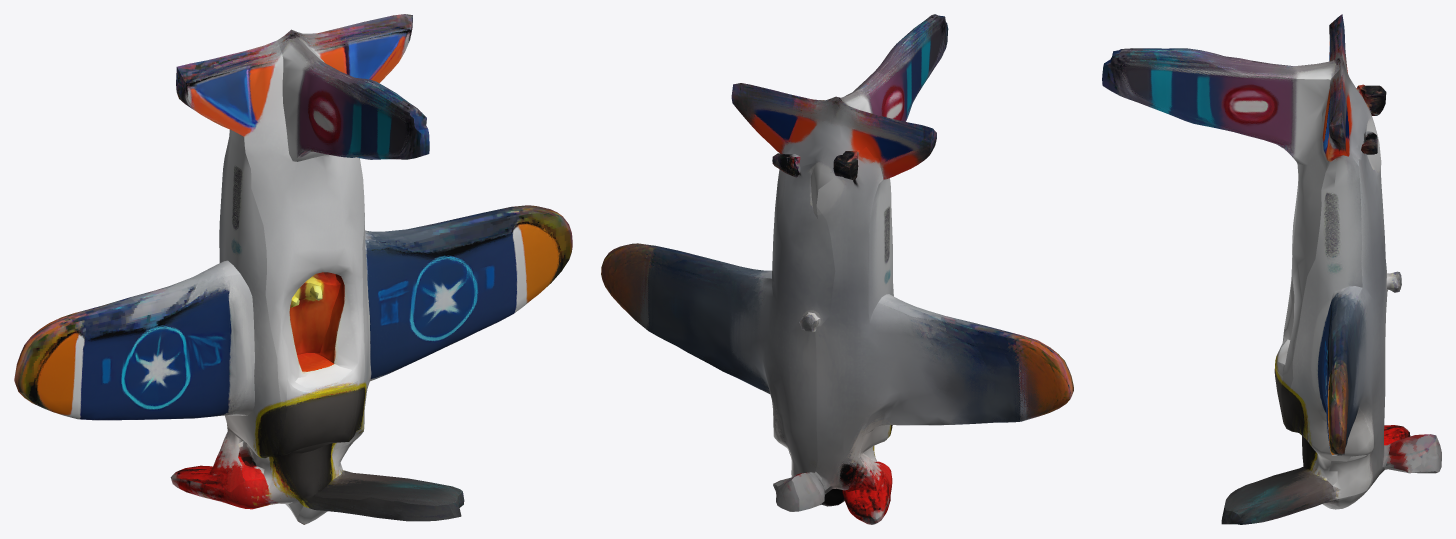
Rendered from out_sim.glb.
The picture shows the model from 3 angles, left to right: view 1: azimuth 30°, elevation 25°; view 2: azimuth 150°, elevation 25°; view 3: azimuth 270°, elevation 25°; orthographic projection. The views are drawn at different scales.
Visible parts, largest first — view 1: world; view 2: world; view 3: world.
Boxes of the visible parts, bbox=[...] form: world: bbox=[14, 14, 572, 524]; world: bbox=[601, 14, 1073, 524]; world: bbox=[1102, 14, 1441, 524].
Size of the model in its own units: 0.9883 by 0.8501 by 0.5743.
1 material, 1 textured.
